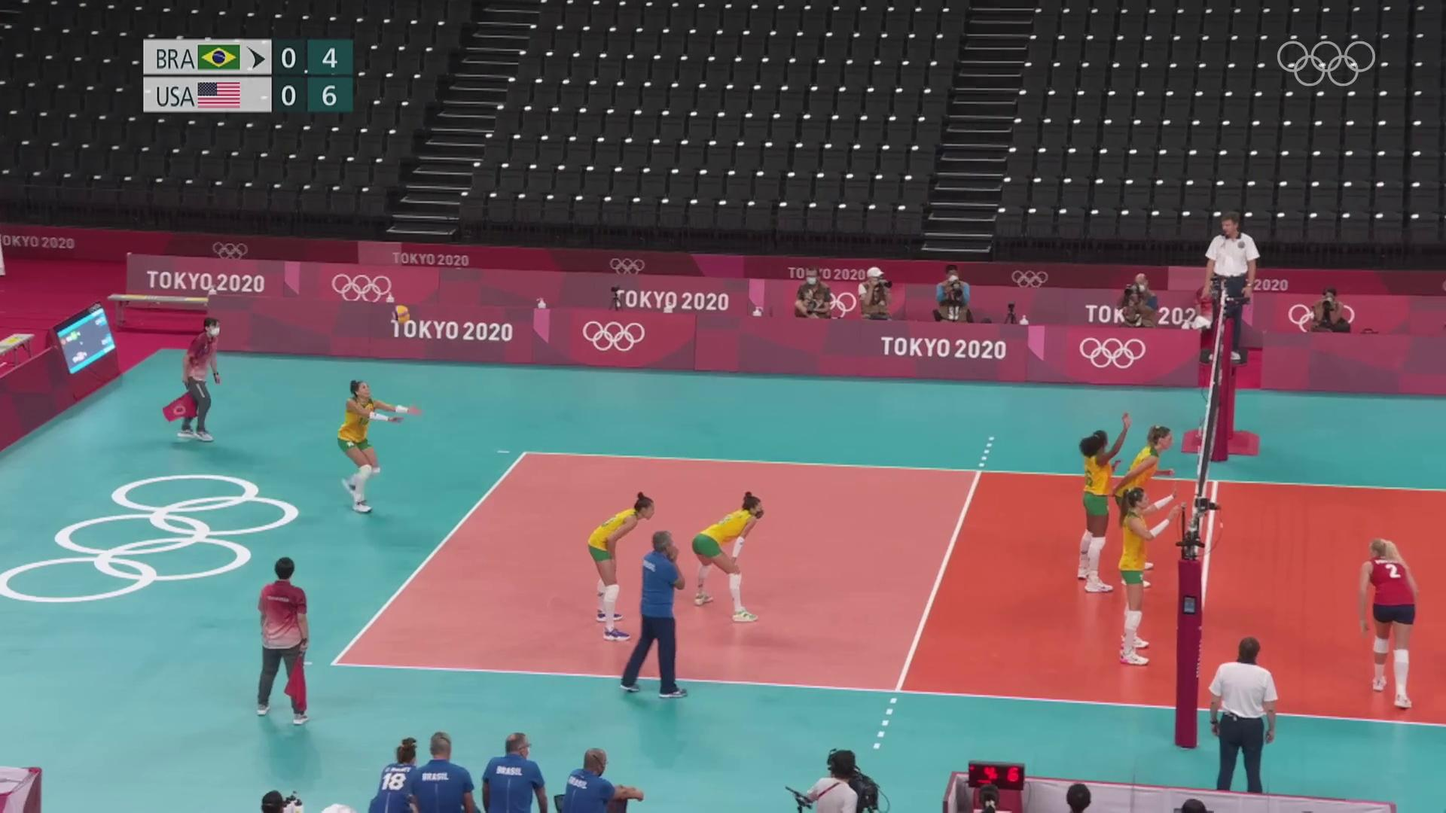player: (1359, 538, 1426, 711), (337, 379, 417, 517), (585, 492, 655, 645), (689, 489, 767, 623), (1117, 423, 1172, 591), (1116, 486, 1167, 665), (1078, 419, 1123, 593)
refree: (1209, 632, 1278, 796), (251, 556, 316, 729), (1204, 211, 1261, 368), (177, 318, 224, 443)
